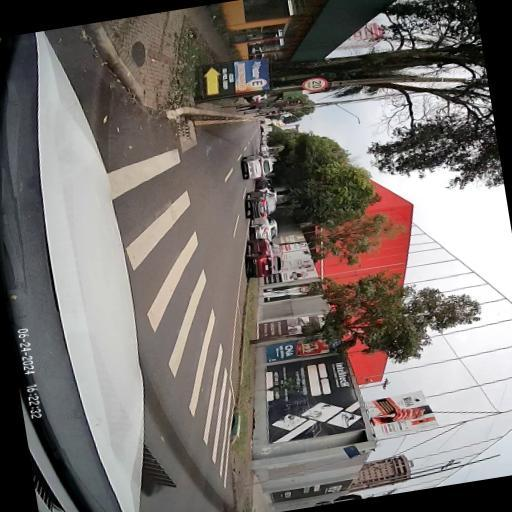R-19: (298, 75, 328, 93), (298, 286, 311, 294)
R-6a: (284, 97, 302, 106)
